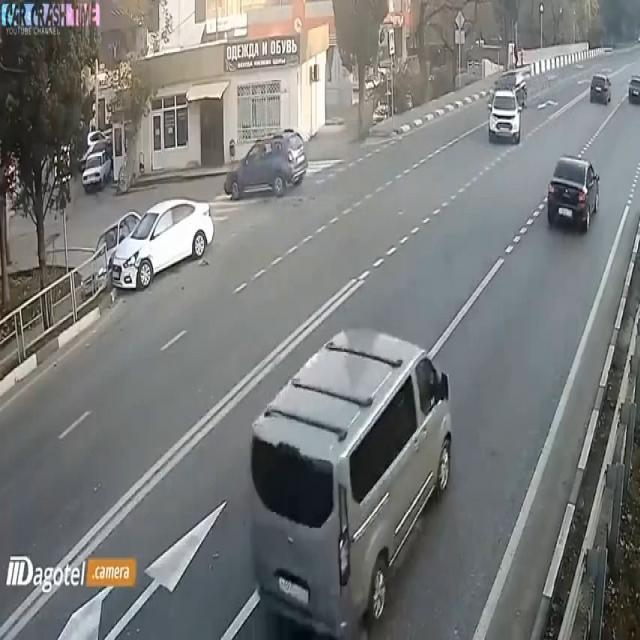Accident: (89, 193, 215, 291)
